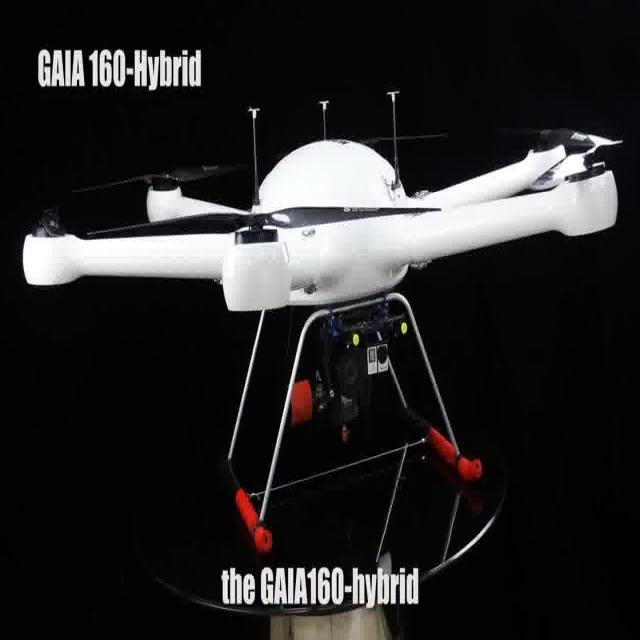drones: (21, 73, 623, 549)
